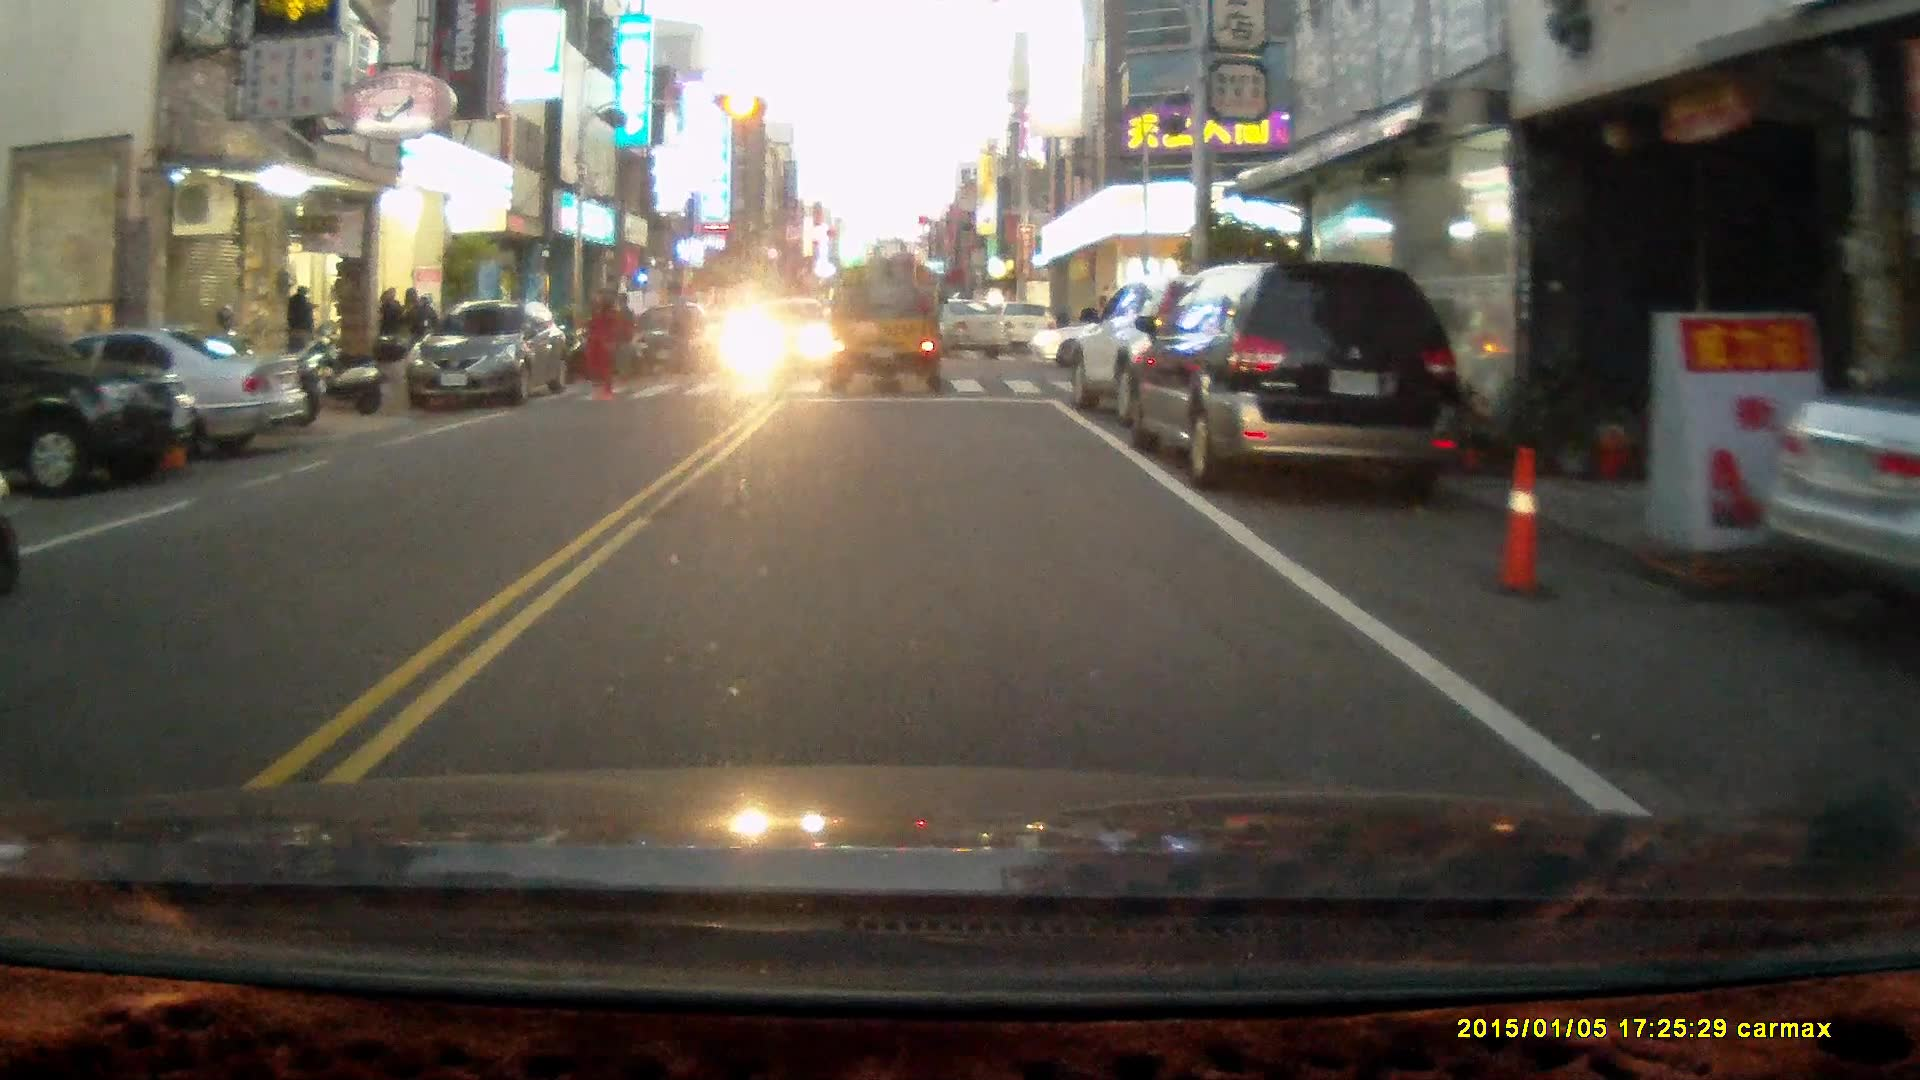pedestrian: (578, 284, 625, 395), (662, 279, 697, 384), (283, 281, 317, 370)
vehicle: (1117, 258, 1466, 486), (1, 327, 313, 465), (1, 305, 201, 503), (1066, 278, 1310, 430), (1762, 369, 1920, 578), (819, 235, 954, 391), (408, 301, 573, 410), (892, 300, 1016, 363), (723, 293, 826, 366), (627, 306, 722, 374)
